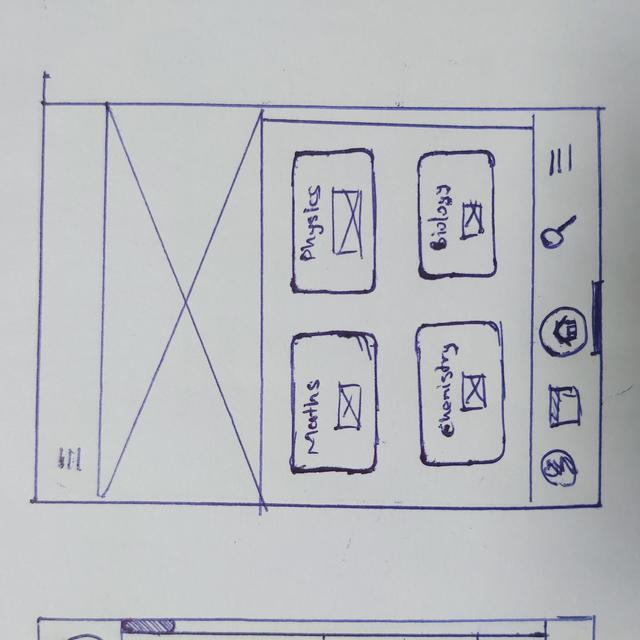AppBar: (42, 99, 102, 504)
BottomNavBar: (532, 107, 601, 508)
BottomNavItems: (533, 292, 602, 373), (533, 125, 599, 194), (534, 201, 600, 270), (532, 377, 602, 441), (532, 444, 599, 505)
CardView: (415, 321, 509, 468), (290, 148, 379, 297), (415, 150, 499, 281)
DrawerLayout: (55, 448, 86, 475)
GridListView: (262, 121, 531, 507)
Icon: (540, 308, 588, 353), (545, 384, 585, 432), (540, 449, 580, 486), (540, 215, 577, 254), (546, 146, 571, 177)
Image: (105, 102, 262, 505), (333, 189, 358, 255), (460, 373, 487, 410), (340, 386, 360, 429), (462, 202, 483, 237)
ListView: (260, 119, 530, 507)
MainLayout: (41, 100, 603, 512)
TextView: (440, 342, 456, 439), (303, 184, 319, 260), (305, 382, 318, 458), (434, 185, 447, 253)
VerticalListView: (262, 117, 531, 507)
